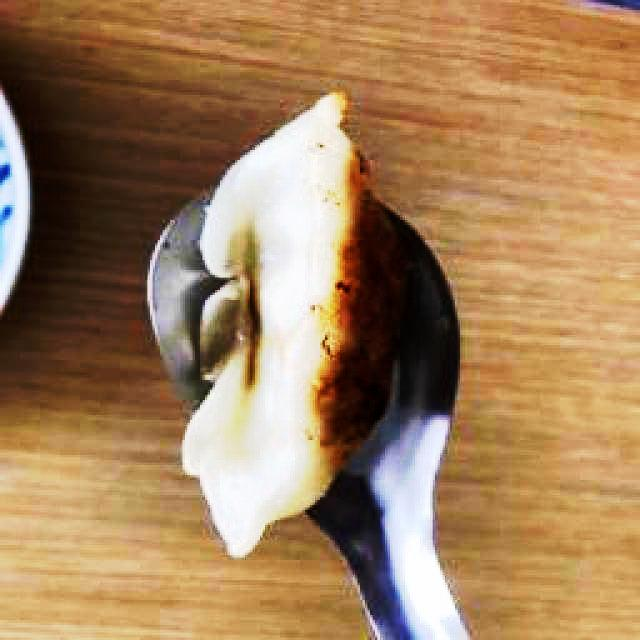fried_dumplings: (144, 90, 414, 559)
